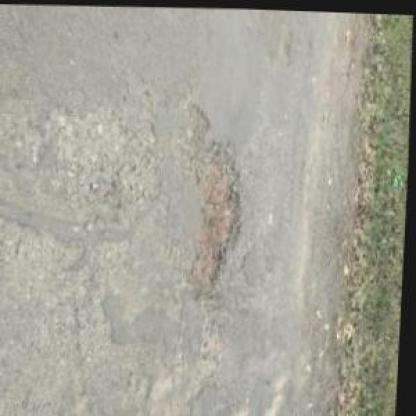pothole: (172, 97, 252, 300)
